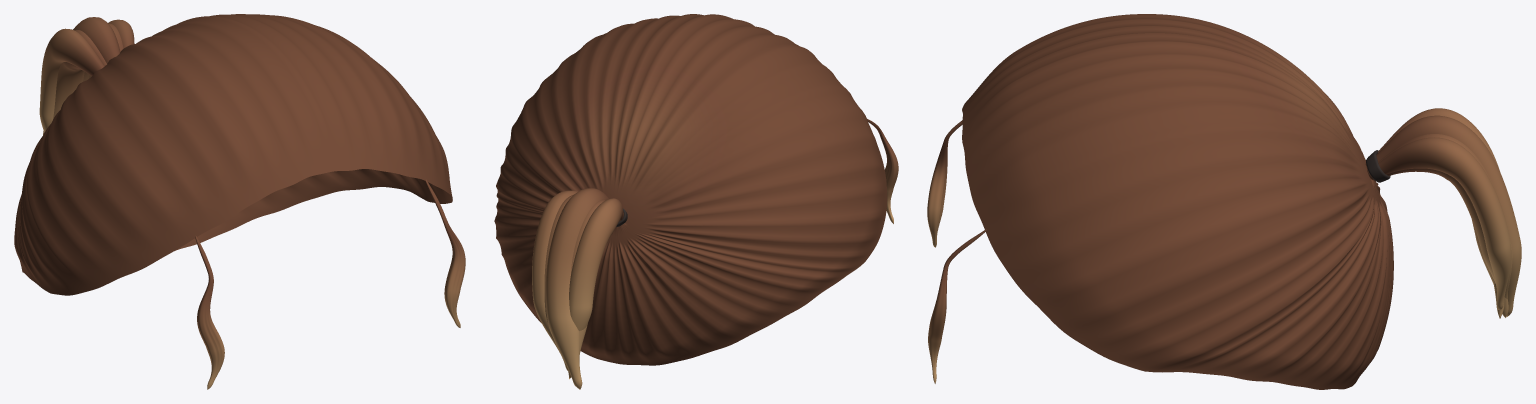
The model's file is ponytail-cap-ombre.glb.
3 renders of one model, left to right at view 1: azimuth 30°, elevation 25°; view 2: azimuth 150°, elevation 25°; view 3: azimuth 270°, elevation 25°, orthographic. The views are drawn at different scales.
Parts seen in each view (by area): view 1: Hair / swept roots220, Hair / rounded tail220 0, Hair / adjustable front216 -1, Hair / adjustable front216 1, Hair / rounded tail220 2, Hair / rounded tail220 1, Hair / rounded tail220 4; view 2: Hair / swept roots220, Hair / rounded tail220 2, Hair / rounded tail220 0, Hair / rounded tail220 4, Hair / adjustable front216 -1, Hair / rounded tail220 1, Hair / rounded tail220 3; view 3: Hair / swept roots220, Hair / rounded tail220 4, Hair / rounded tail220 2, Hair / rounded tail220 3, Hair / adjustable front216 -1, Hair / adjustable front216 1, Hair / rounded tail220 0.
Part boxes in pixels (x1=…): Hair / swept roots220: x1=14, y1=14, x2=452, y2=295; Hair / rounded tail220 0: x1=39, y1=28, x2=104, y2=132; Hair / adjustable front216 -1: x1=195, y1=235, x2=224, y2=389; Hair / adjustable front216 1: x1=425, y1=179, x2=465, y2=327; Hair / rounded tail220 2: x1=43, y1=17, x2=120, y2=135; Hair / rounded tail220 1: x1=53, y1=30, x2=106, y2=119; Hair / rounded tail220 4: x1=108, y1=19, x2=134, y2=48; Hair / swept roots220: x1=494, y1=14, x2=887, y2=365; Hair / rounded tail220 2: x1=545, y1=188, x2=608, y2=389; Hair / rounded tail220 0: x1=568, y1=198, x2=623, y2=379; Hair / rounded tail220 4: x1=532, y1=190, x2=577, y2=370; Hair / adjustable front216 -1: x1=867, y1=119, x2=898, y2=223; Hair / rounded tail220 1: x1=571, y1=199, x2=605, y2=386; Hair / rounded tail220 3: x1=544, y1=194, x2=573, y2=331; Hair / swept roots220: x1=962, y1=14, x2=1393, y2=389; Hair / rounded tail220 4: x1=1367, y1=137, x2=1511, y2=309; Hair / rounded tail220 2: x1=1365, y1=115, x2=1521, y2=316; Hair / rounded tail220 3: x1=1367, y1=134, x2=1512, y2=298; Hair / adjustable front216 -1: x1=927, y1=120, x2=962, y2=247; Hair / adjustable front216 1: x1=928, y1=229, x2=986, y2=383; Hair / rounded tail220 0: x1=1378, y1=108, x2=1504, y2=318.
Bounding box in the file's own units: 0.779 × 0.5788 × 0.9433.
Materials: 9 (8 with a texture image).
